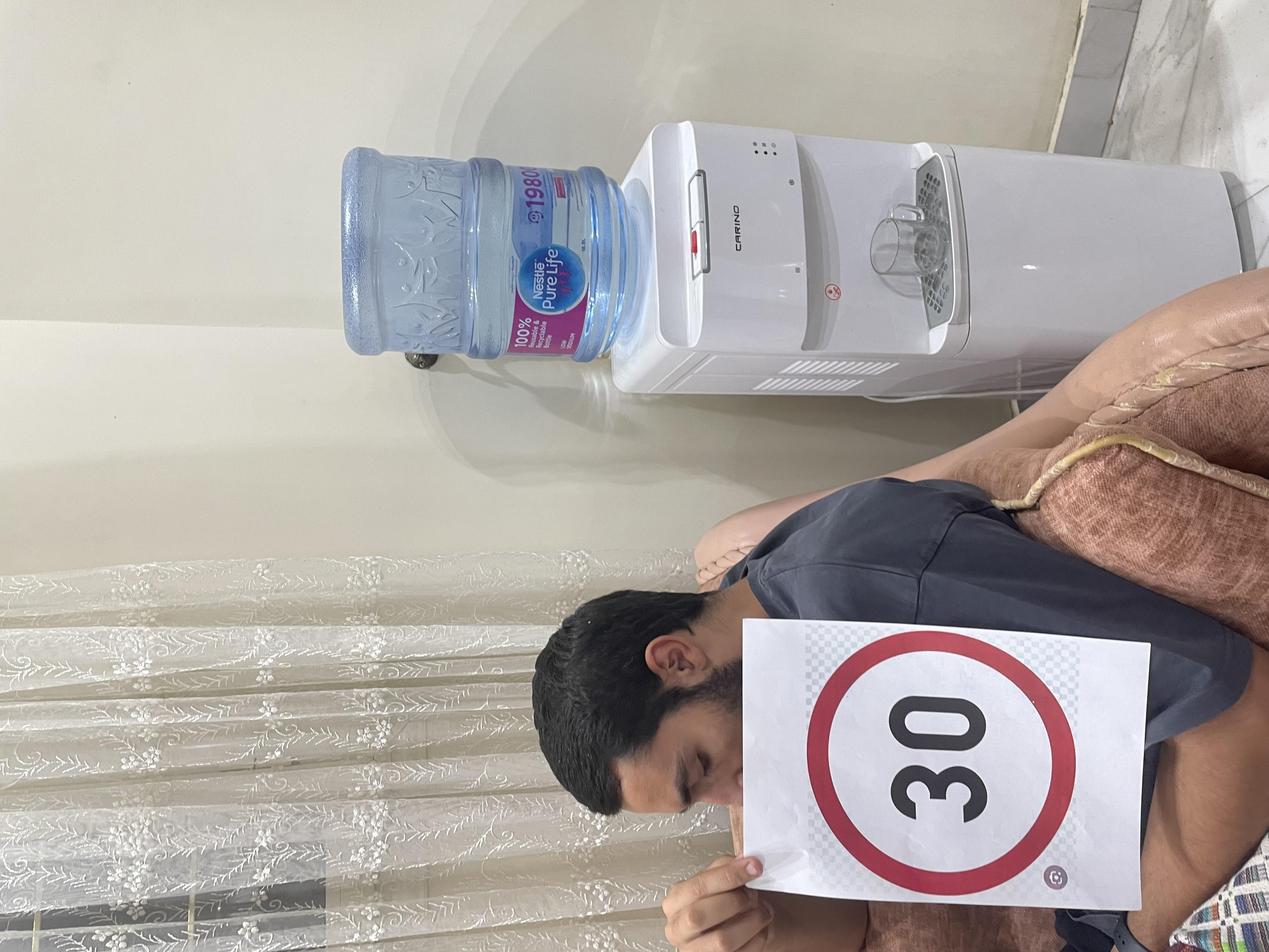30-speed: (66, 603, 433, 812)
